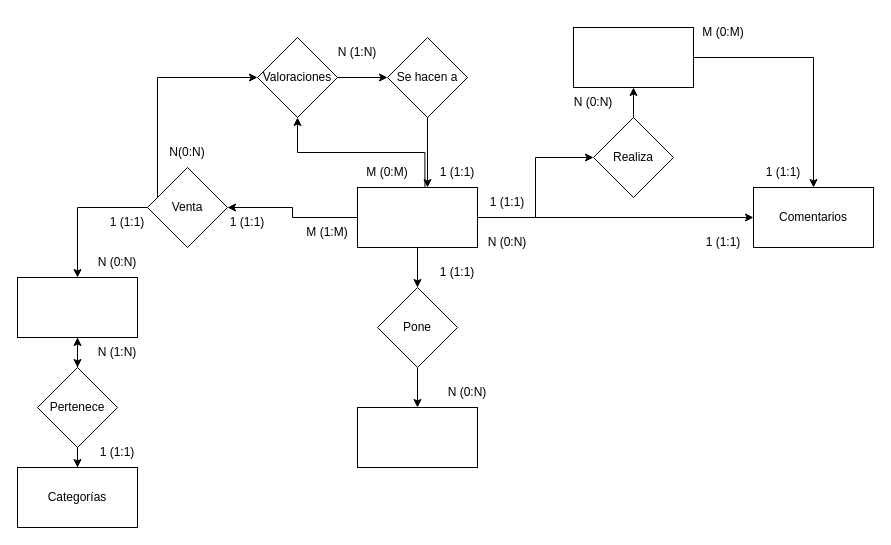
Image size: 891x545. Some labels were removed from this diagram. The shapes that lost their labels are listed below. From the top down, each one's centre as x and y in pixels, then its label:
(633,57): Posts
(417,217): Usuarios
(77,307): Productos
(417,437): Incidencias
